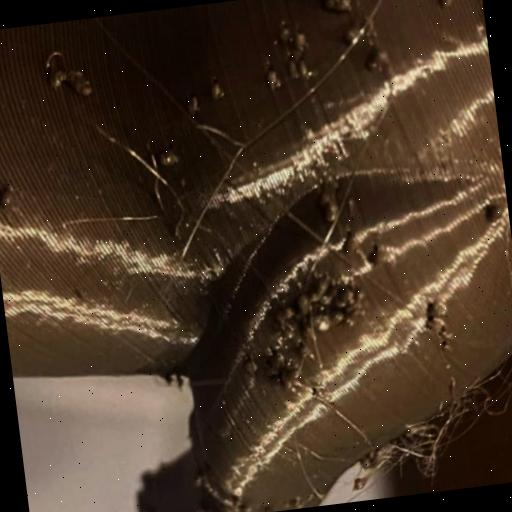blobs: (358, 44, 394, 74), (68, 64, 97, 98), (308, 182, 340, 208), (334, 230, 362, 258), (338, 21, 367, 48), (150, 147, 184, 170), (278, 366, 306, 393), (366, 242, 394, 269), (317, 200, 345, 226), (310, 276, 337, 302), (294, 288, 320, 314), (424, 312, 450, 337), (276, 319, 301, 343), (314, 313, 340, 336), (482, 200, 506, 224), (239, 354, 265, 376), (337, 280, 359, 306), (427, 296, 452, 318), (0, 185, 19, 213), (288, 30, 310, 54), (180, 94, 202, 117), (262, 68, 284, 91), (284, 56, 304, 80), (276, 300, 298, 320), (325, 0, 353, 14), (274, 28, 292, 46), (212, 80, 229, 98), (438, 0, 460, 13)
